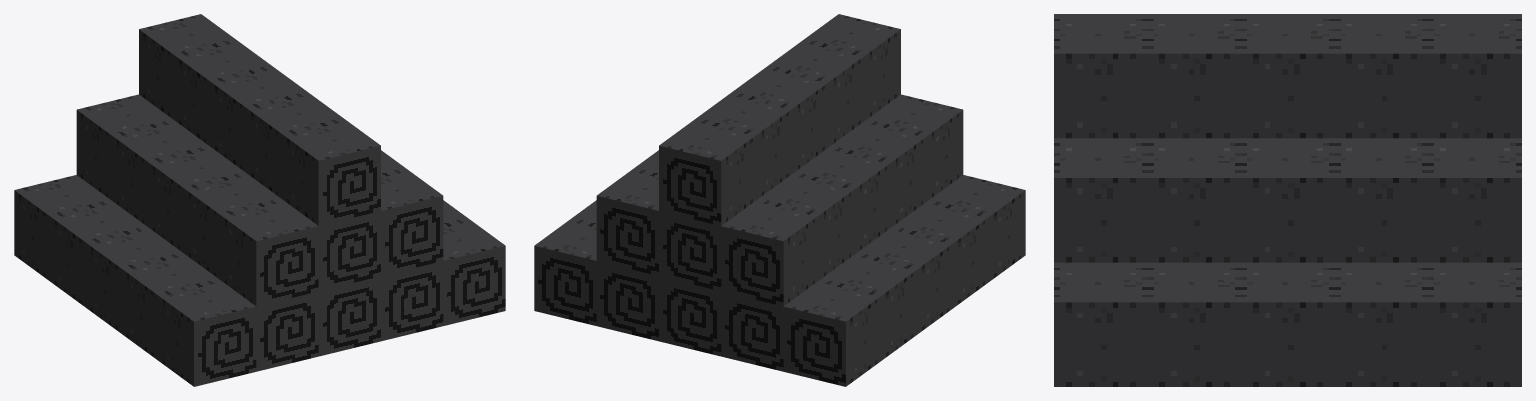
Rendered from Charcoal Pyramid.fbx.
The picture shows the model from 3 angles, left to right: view 1: azimuth 30°, elevation 25°; view 2: azimuth 150°, elevation 25°; view 3: azimuth 270°, elevation 25°; orthographic projection. The views are drawn at different scales.
Parts seen in each view (by area): view 1: c_y1_2_3_3, c_y0_0_4, c_y1_1_3_1, c_y0_4_4, c_y1_3_3_1, c_y1_1_2, c_y0_0_0, c_y0_0_1, c_y0_0_2, c_y1_1_3, c_y1_1_1_1, c_y1_1_1 (+9 smaller); view 2: c_y1_2_1_2, c_y0_0_0, c_y1_1_1_1, c_y0_4_0, c_y1_3_1_1, c_y1_1_2, c_y0_0_2, c_y0_0_3, c_y0_0_4, c_y1_1_1, c_y1_1_3_1, c_y1_1_3 (+9 smaller); view 3: c_y1_3_1, c_y1_3_3, c_y0_4_1, c_y0_4_3, c_y1_2_1_3, c_y1_2_3_2, c_y0_4_0, c_y0_4_2, c_y0_4_4, c_y1_3_2, c_y1_3_1_1, c_y1_3_3_1 (+3 smaller).
Part boxes in pixels (x1,y1,x2,y2): c_y1_2_3_3: [282, 119, 380, 225]; c_y0_0_4: [158, 280, 256, 386]; c_y1_1_3_1: [220, 200, 318, 306]; c_y0_4_4: [443, 219, 505, 325]; c_y1_3_3_1: [381, 169, 443, 275]; c_y1_1_2: [148, 147, 246, 253]; c_y0_0_0: [14, 175, 111, 281]; c_y0_0_1: [50, 201, 147, 307]; c_y0_0_2: [86, 227, 183, 333]; c_y1_1_3: [184, 173, 282, 279]; c_y1_1_1_1: [76, 94, 174, 200]; c_y1_1_1: [112, 121, 210, 227]; c_y1_2_1_2: [659, 119, 757, 225]; c_y0_0_0: [783, 280, 881, 386]; c_y1_1_1_1: [721, 200, 819, 306]; c_y0_4_0: [534, 219, 596, 325]; c_y1_3_1_1: [596, 169, 658, 275]; c_y1_1_2: [793, 147, 891, 253]; c_y0_0_2: [856, 227, 953, 333]; c_y0_0_3: [892, 201, 989, 307]; c_y0_0_4: [928, 175, 1025, 281]; c_y1_1_1: [757, 173, 855, 279]; c_y1_1_3_1: [865, 94, 963, 200]; c_y1_1_3: [829, 121, 927, 227]; c_y1_3_1: [1334, 138, 1428, 262]; c_y1_3_3: [1147, 138, 1241, 262]; c_y0_4_1: [1334, 262, 1428, 386]; c_y0_4_3: [1147, 262, 1241, 386]; c_y1_2_1_3: [1334, 14, 1428, 138]; c_y1_2_3_2: [1147, 14, 1241, 138]; c_y0_4_0: [1428, 262, 1521, 386]; c_y0_4_2: [1241, 262, 1334, 386]; c_y0_4_4: [1054, 262, 1147, 386]; c_y1_3_2: [1241, 138, 1334, 262]; c_y1_3_1_1: [1428, 138, 1521, 262]; c_y1_3_3_1: [1054, 138, 1147, 262].
Bounding box in the file's own units: 31.25 × 18.75 × 31.25.
Materials: 3 (3 with a texture image).
